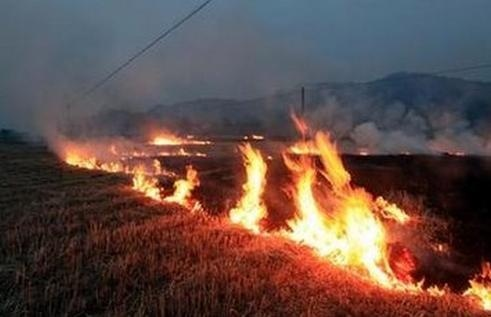fire: (272, 110, 424, 293), (127, 153, 205, 211), (231, 135, 268, 233), (56, 139, 125, 173), (460, 255, 491, 312)
